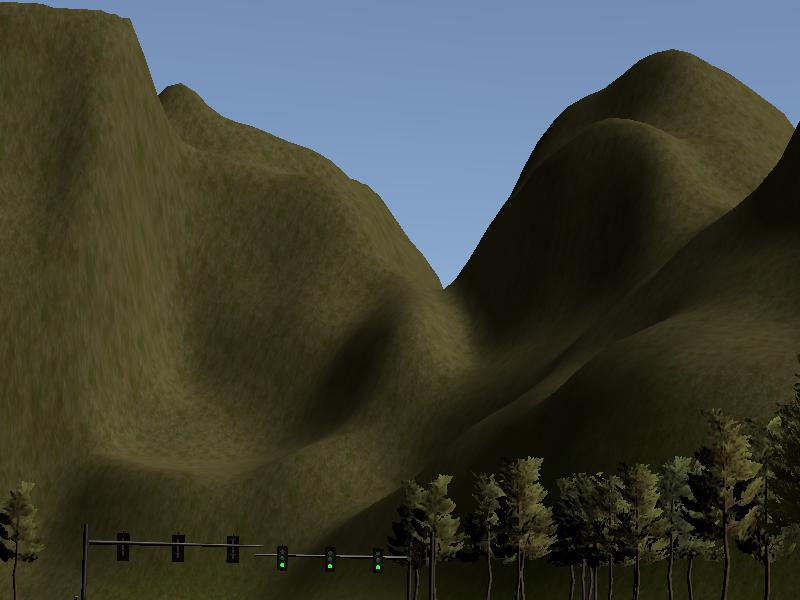Green: (324, 546, 337, 573), (372, 546, 384, 575), (275, 544, 287, 572)
